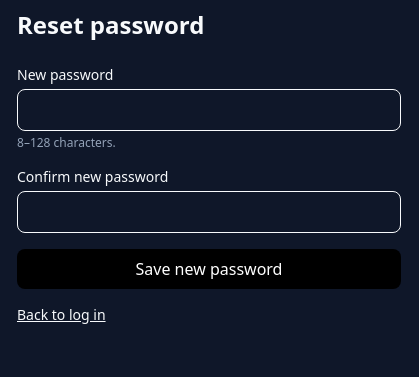
Scenario: ResetPasswordPage › 422 from the API surfaces a password-not-allowed message
Step 1. Type "brandnew12345" into the password field labelled "New password" → [209, 110], box [17,89,401,131]
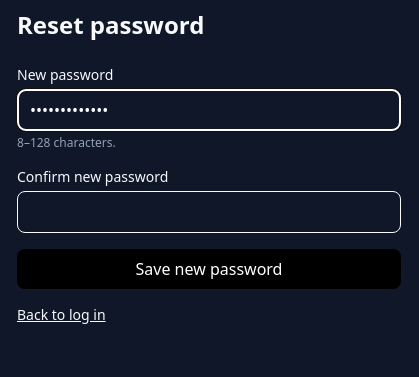
Step 2. Type "brandnew12345" into the password field labelled "Confirm new password" → [209, 212], box [17,191,401,233]
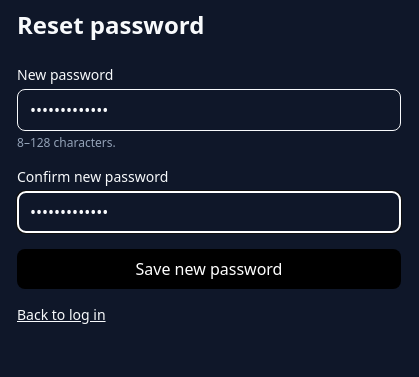
Step 3. Click the button "Save new password" → [209, 269], box [17,249,401,289]
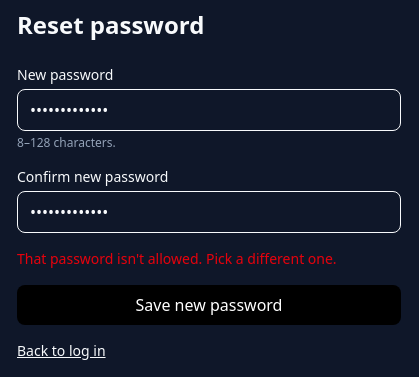
Now the message shows "isn't allowed", box [17,249,337,268]
